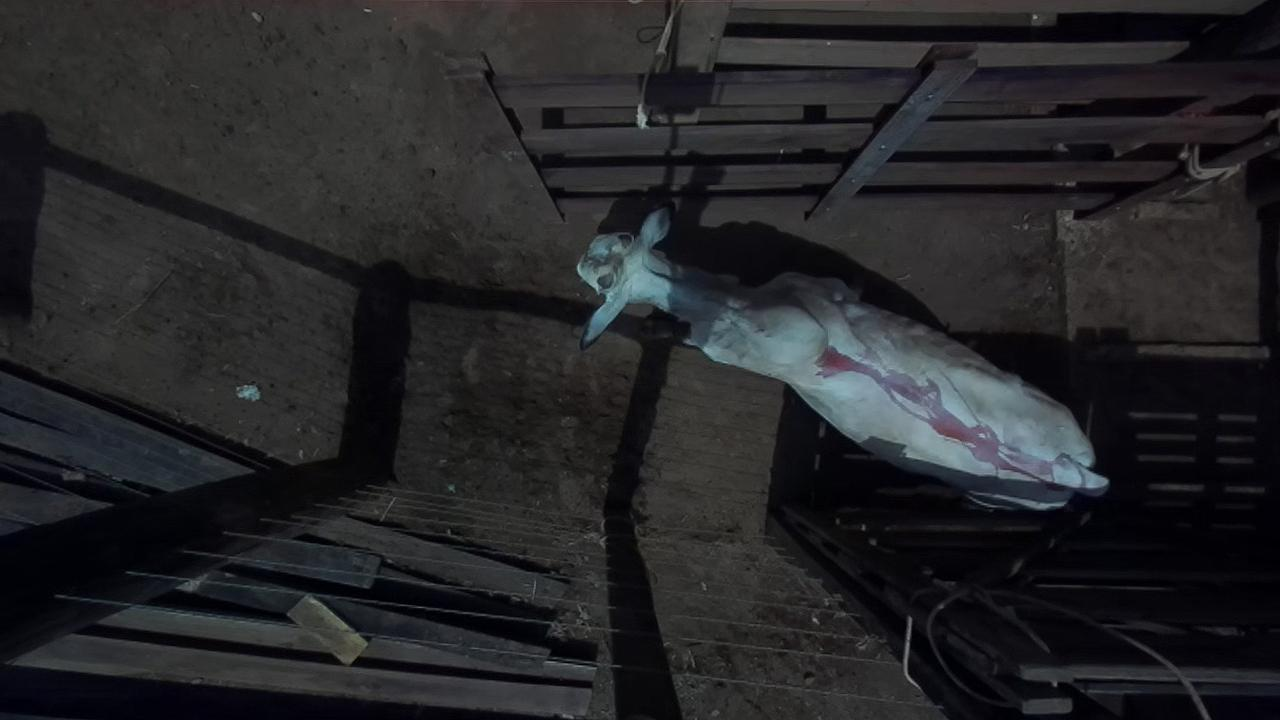cattle: (574, 192, 1110, 514)
